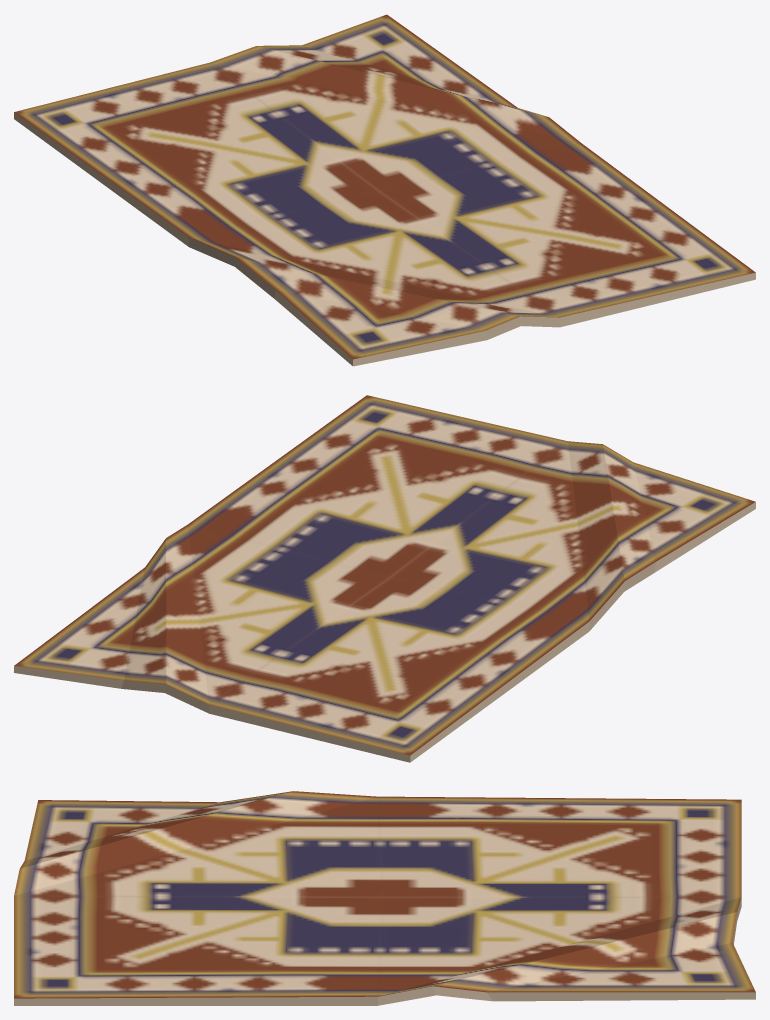
Rendered from SM_Prop_Rug_16.fbx.
3 views of the same model, one above another, from view 1: azimuth 30°, elevation 25°; view 2: azimuth 150°, elevation 25°; view 3: azimuth 270°, elevation 25° (orthographic). The views are drawn at different scales.
Visible parts, largest first — view 1: SM_Prop_Rug_16; view 2: SM_Prop_Rug_16; view 3: SM_Prop_Rug_16.
Boxes of the visible parts, bbox=[...] form: SM_Prop_Rug_16: bbox=[14, 14, 755, 366]; SM_Prop_Rug_16: bbox=[14, 395, 755, 762]; SM_Prop_Rug_16: bbox=[14, 791, 755, 1005].
Bounding box in the file's own units: 197 × 9.08 × 310.
